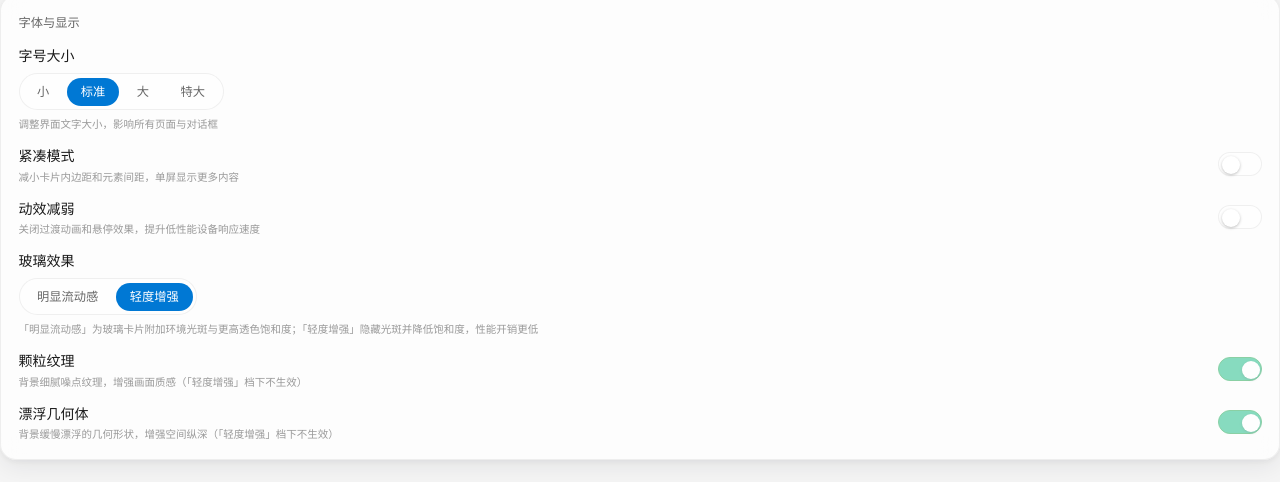
Scenario: AppearanceDisplaySection — 档位控件统一接入 SegmentedControl › 从 lite 切回「明显流动感」：摘类且氛围开关恢复可用
The width and height of the screenshot is (1280, 482).
Check: the switch named "颗粒纹理" in the row of "背景细腻噪点纹理，增强画面质感（「轻度增强」档下不生效）" is disabled, box top-left (1218, 357), bottom-right (1262, 381)
Click the radio button labelled "明显流动感" at (68, 296), box top-left (23, 282), bottom-right (112, 310)
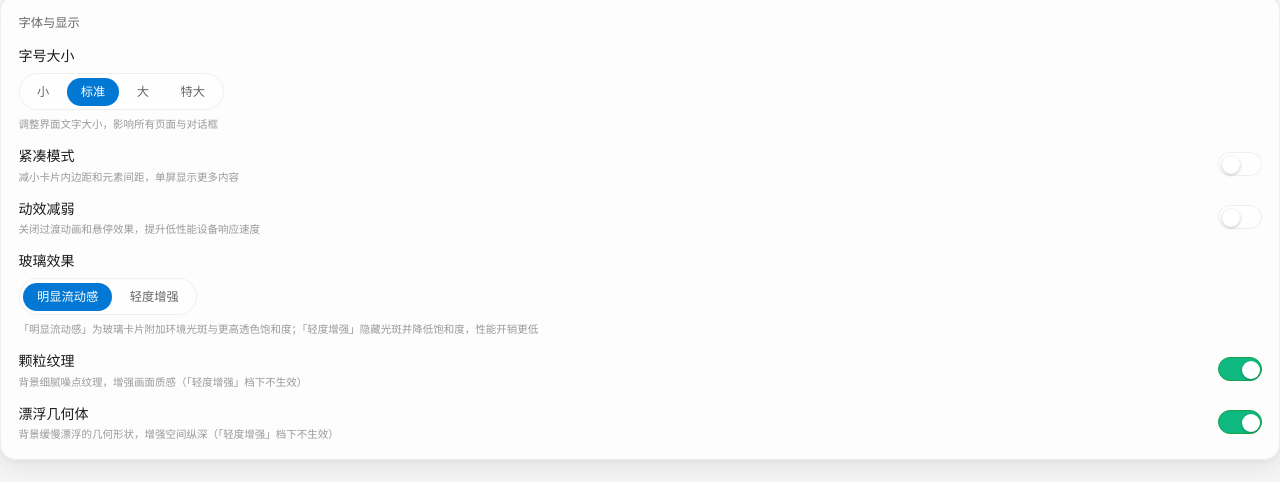
Check: the switch named "颗粒纹理" in the row of "背景细腻噪点纹理，增强画面质感（「轻度增强」档下不生效）" is enabled, box top-left (1218, 357), bottom-right (1262, 381)
Check: the switch named "漂浮几何体" in the row of "背景缓慢漂浮的几何形状，增强空间纵深（「轻度增强」档下不生效）" is enabled, box top-left (1218, 410), bottom-right (1262, 434)
